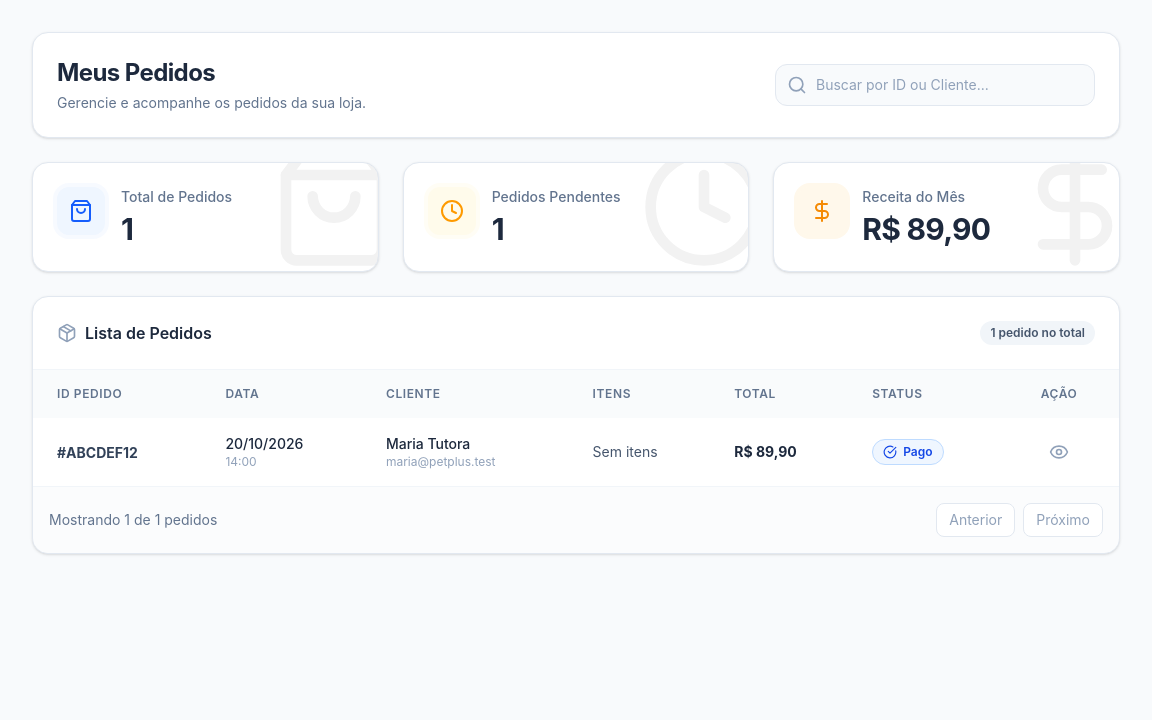
Scenario: mostra ao lojista o endereço de entrega gravado no pedido (E-05)
Click the button titled "Ver Detalhes".
click(1059, 452)  # box 1043,436 -> 1075,468
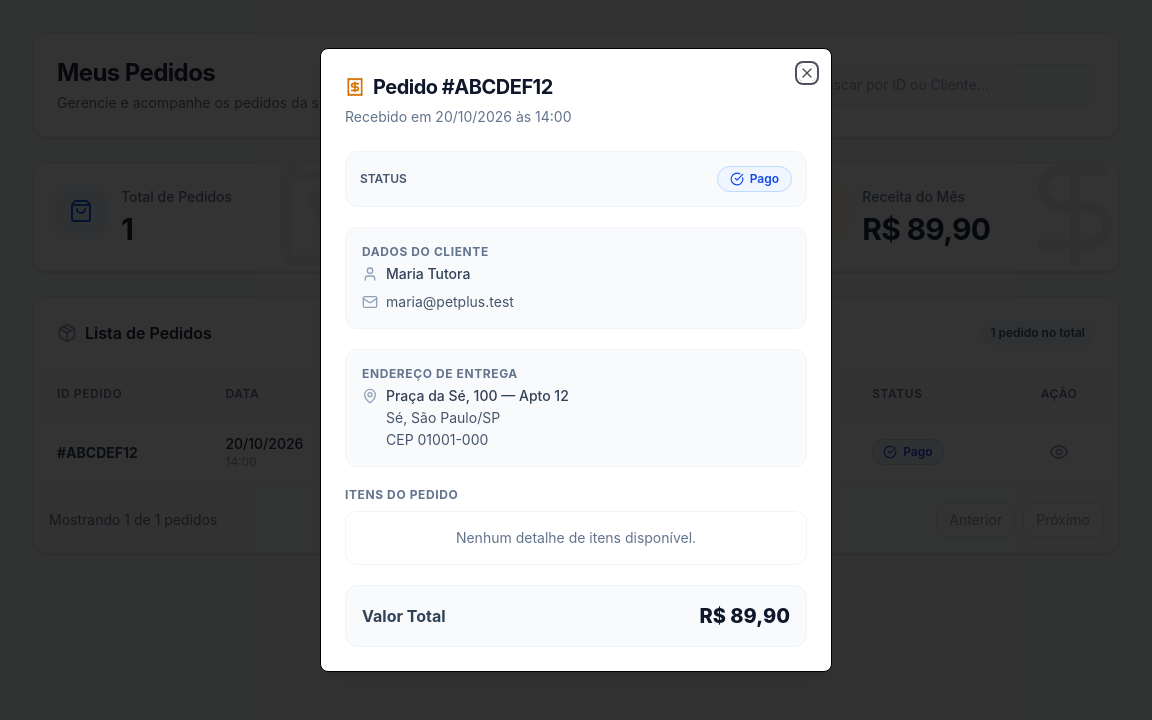
Expected: the heading "Endereço de Entrega" is shown, 362,366 -> 518,381
Expected: the text "Praça da Sé, 100 — Apto 12" is shown, 386,386 -> 569,406
Expected: the text "Sé, São Paulo/SP" is shown, 386,409 -> 500,426
